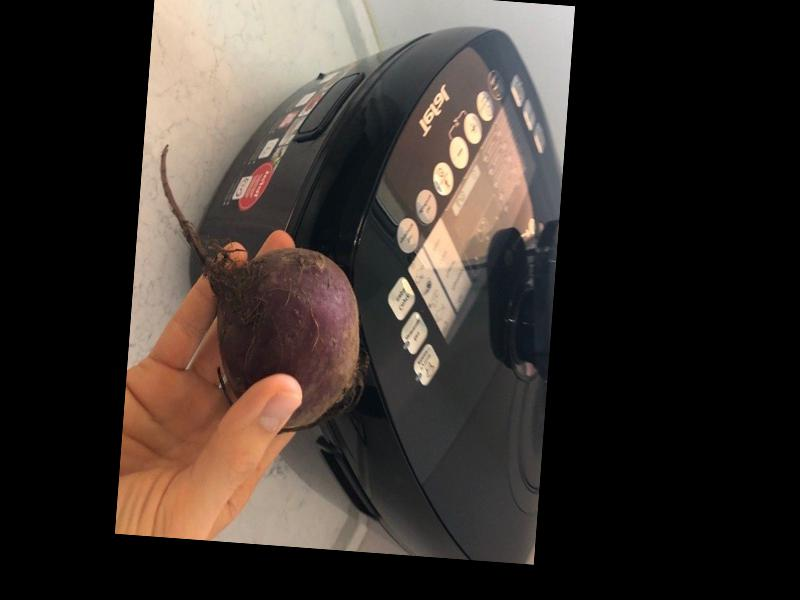Beet: (142, 145, 382, 437)
